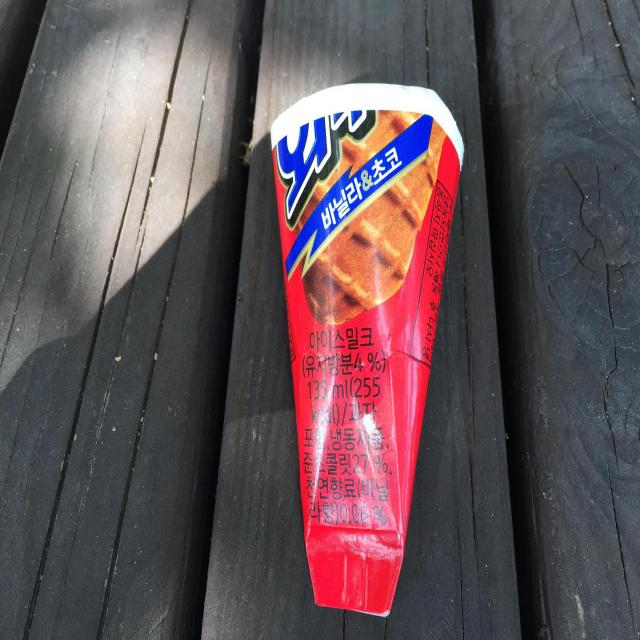paperpack: (271, 84, 464, 617)
